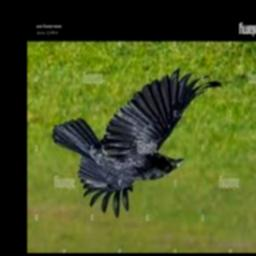Crow: (53, 68, 223, 217)
